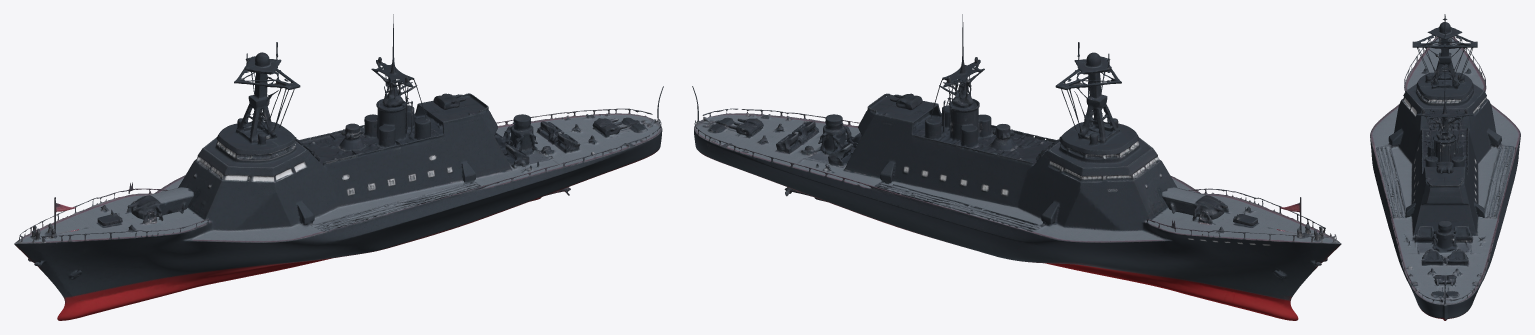
The model's file is bishop_black.glb.
The picture shows the model from 3 angles, left to right: view 1: azimuth 30°, elevation 25°; view 2: azimuth 150°, elevation 25°; view 3: azimuth 270°, elevation 25°; orthographic projection. The views are drawn at different scales.
Parts seen in each view (by area): view 1: mesh_node; view 2: mesh_node; view 3: mesh_node.
Part boxes in pixels (box(x1,y1,x2,y2)): mesh_node: box(14, 14, 663, 320); mesh_node: box(692, 14, 1341, 320); mesh_node: box(1370, 14, 1520, 320).
Size of the model in its own units: 1.9 by 0.632 by 0.4848.
Materials: 1 (1 with a texture image).
